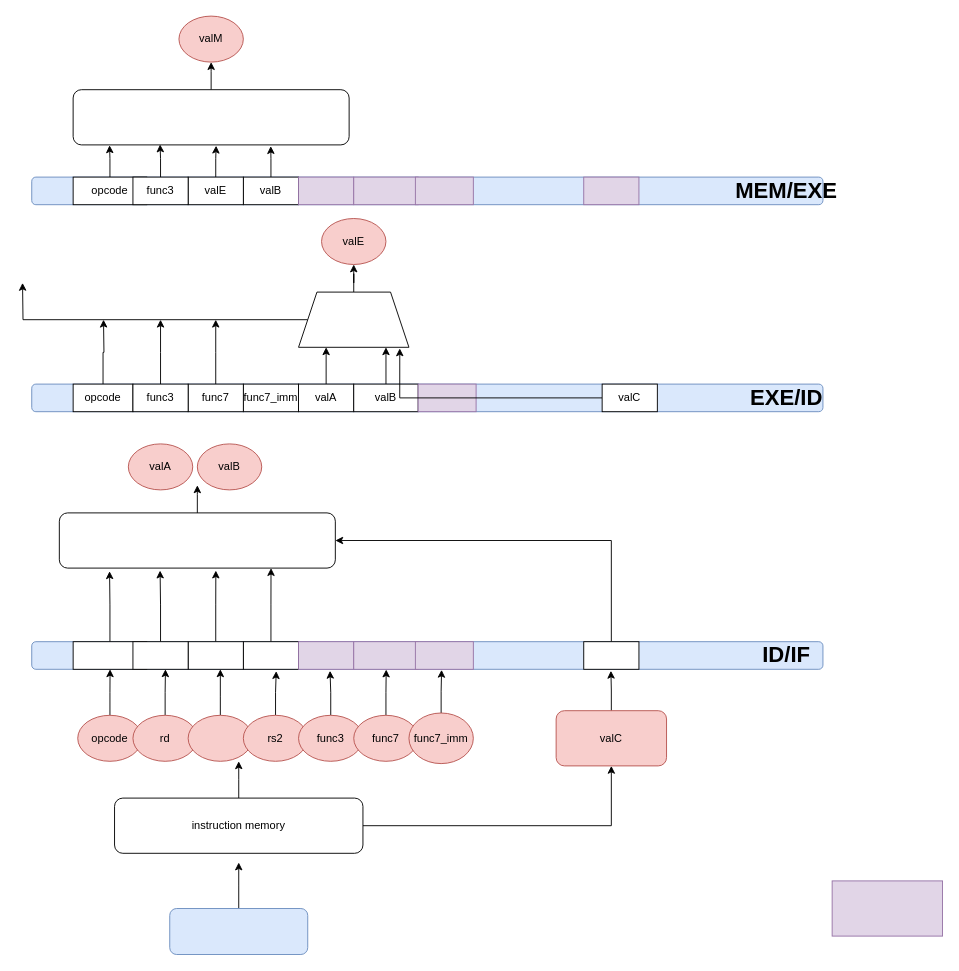
This 959x971 diagram has some shape labels left out. Each missing label, with the box of its shape:
ALU: (298, 291, 409, 347)
memory: (72, 89, 349, 145)
pc: (169, 908, 308, 954)
register: (58, 512, 335, 568)
rs1: (187, 714, 253, 761)
无用: (831, 880, 943, 936)
